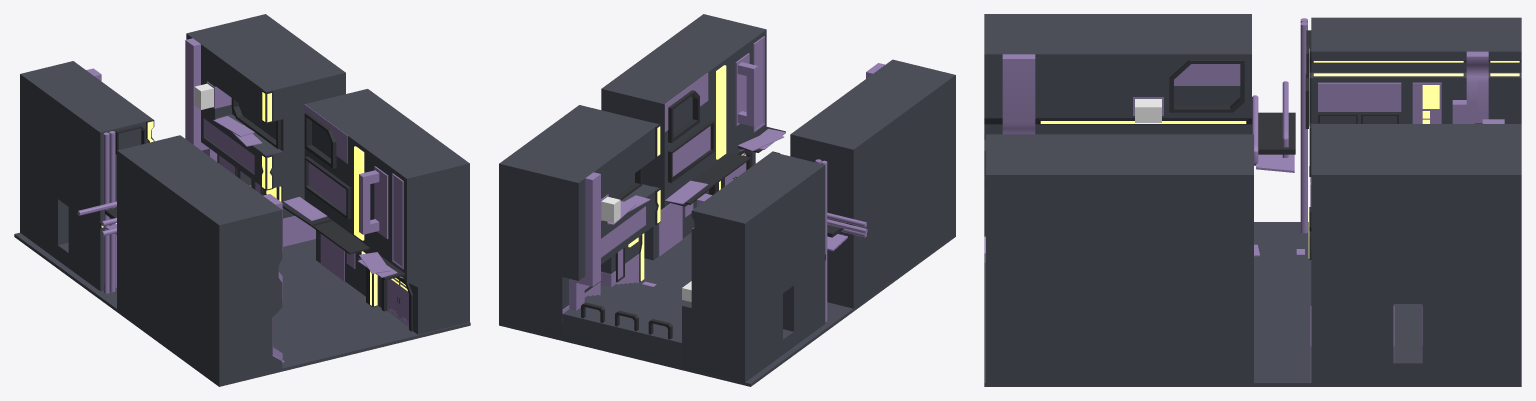
File: BPM_LevelGreybox_Comb.fbx
3 views of the same model, side by side, from view 1: azimuth 30°, elevation 25°; view 2: azimuth 150°, elevation 25°; view 3: azimuth 270°, elevation 25° (orthographic). The views are drawn at different scales.
Parts seen in each view (by area): view 1: BuildingBase_BLOCK (×4), GroundPlane_BLOCK, MidGrate_BLOCK (×2), Pipe_Long_01, Pipe_Long_22, Pipe_Curved_BLOCK, Pipe_Long_23, DecGrate_01_BLOCK (×2), HangingBlock_02_BLOCK, PipePanel_BLOCK, TopWindowFrame_BLOCK, MidGrateFrame_BLOCK (+12 smaller); view 2: BuildingBase_BLOCK (×4), MainStairGround_BLOCK, GroundPlane_BLOCK, MidGrate_BLOCK (×2), Pipe_Long_02, GarageGrate_BLOCK, Pipe_Curved_BLOCK, TopBlockLight_EM_BLOCK, HangingBlock_02_BLOCK, TopWindowFrame_BLOCK, TopStair_BLOCK, MidGrateFrame_BLOCK (+10 smaller); view 3: BuildingBase_BLOCK (×4), GroundPlane_BLOCK, TopGrate_BLOCK, Pipe_Long_23, HangingBlock_BLOCK, WindowGrate_BLOCK, WindowFrame_BLOCK, Pipe_Long_05, Pipe_Long_06, Pipe_Long_01_BLOCK, Pipe_Long_02_BLOCK, Pipe_Long_03_BLOCK (+11 smaller).
Part boxes in pixels (x1=…): BuildingBase_BLOCK (×4): x1=20, y1=14, x2=469, y2=383; GroundPlane_BLOCK: x1=14, y1=232, x2=470, y2=386; MidGrate_BLOCK (×2): x1=204, y1=119, x2=346, y2=212; Pipe_Long_01: x1=189, y1=41, x2=217, y2=161; Pipe_Long_22: x1=103, y1=132, x2=109, y2=293; Pipe_Curved_BLOCK: x1=359, y1=170, x2=379, y2=234; Pipe_Long_23: x1=109, y1=131, x2=115, y2=292; DecGrate_01_BLOCK (×2): x1=213, y1=116, x2=327, y2=221; HangingBlock_02_BLOCK: x1=312, y1=217, x2=369, y2=254; PipePanel_BLOCK: x1=374, y1=166, x2=388, y2=238; TopWindowFrame_BLOCK: x1=304, y1=112, x2=336, y2=168; MidGrateFrame_BLOCK: x1=304, y1=156, x2=351, y2=219; BuildingBase_BLOCK (×4): x1=499, y1=14, x2=955, y2=382; MainStairGround_BLOCK: x1=562, y1=287, x2=687, y2=367; GroundPlane_BLOCK: x1=499, y1=232, x2=955, y2=386; MidGrate_BLOCK (×2): x1=601, y1=126, x2=710, y2=257; Pipe_Long_02: x1=569, y1=175, x2=596, y2=310; GarageGrate_BLOCK: x1=658, y1=203, x2=682, y2=256; Pipe_Curved_BLOCK: x1=737, y1=62, x2=758, y2=126; TopBlockLight_EM_BLOCK: x1=716, y1=65, x2=726, y2=159; HangingBlock_02_BLOCK: x1=665, y1=152, x2=750, y2=206; TopWindowFrame_BLOCK: x1=668, y1=90, x2=699, y2=142; TopStair_BLOCK: x1=584, y1=294, x2=681, y2=322; MidGrateFrame_BLOCK: x1=668, y1=120, x2=714, y2=182; BuildingBase_BLOCK (×4): x1=984, y1=14, x2=1521, y2=382; GroundPlane_BLOCK: x1=984, y1=222, x2=1521, y2=386; TopGrate_BLOCK: x1=1318, y1=82, x2=1401, y2=111; Pipe_Long_23: x1=1300, y1=22, x2=1307, y2=233; HangingBlock_BLOCK: x1=1258, y1=112, x2=1295, y2=154; WindowGrate_BLOCK: x1=1174, y1=64, x2=1240, y2=85; WindowFrame_BLOCK: x1=1169, y1=59, x2=1244, y2=112; Pipe_Long_05: x1=1452, y1=51, x2=1477, y2=123; Pipe_Long_06: x1=1463, y1=51, x2=1488, y2=123; Pipe_Long_01_BLOCK: x1=1002, y1=54, x2=1013, y2=134; Pipe_Long_02_BLOCK: x1=1013, y1=54, x2=1024, y2=134; Pipe_Long_03_BLOCK: x1=1024, y1=54, x2=1035, y2=134.
Size of the model in its own units: 10.96 by 6.11 by 14.04.
